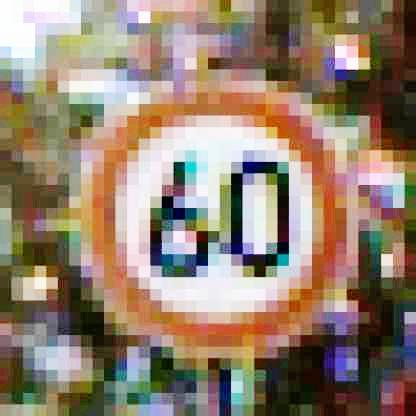Speed Limit -60-: (75, 85, 346, 356)
